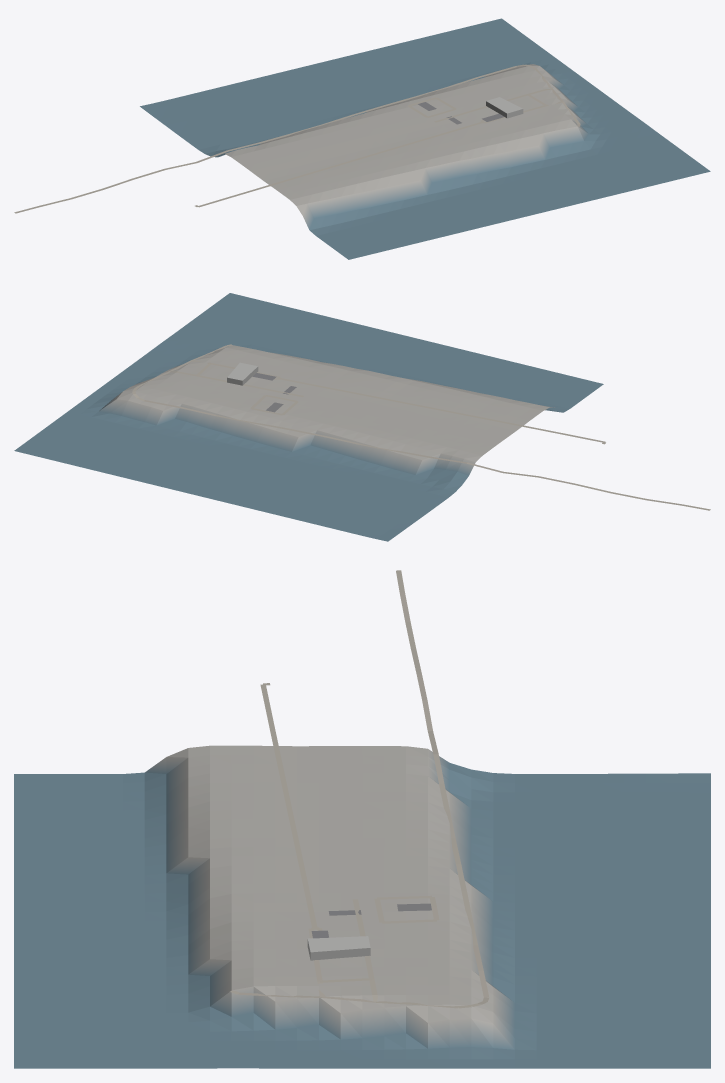
Rendered from tile_1_-1.glb.
3 views of the same model, one above another, from view 1: azimuth 30°, elevation 25°; view 2: azimuth 150°, elevation 25°; view 3: azimuth 270°, elevation 25° (orthographic). The views are drawn at different scales.
Parts seen in each view (by area): view 1: terrain, roads, buildings; view 2: terrain, roads, buildings; view 3: terrain, roads, buildings.
Part boxes in pixels (bbox=[...]): terrain: bbox=[140, 18, 710, 259]; roads: bbox=[14, 64, 580, 213]; buildings: bbox=[486, 97, 523, 118]; terrain: bbox=[14, 293, 603, 541]; roads: bbox=[132, 344, 710, 510]; buildings: bbox=[227, 362, 258, 385]; terrain: bbox=[14, 745, 710, 1068]; roads: bbox=[230, 570, 489, 1008]; buildings: bbox=[307, 936, 370, 960].
Bounding box in the file's own units: 410 × 14.61 × 256.
